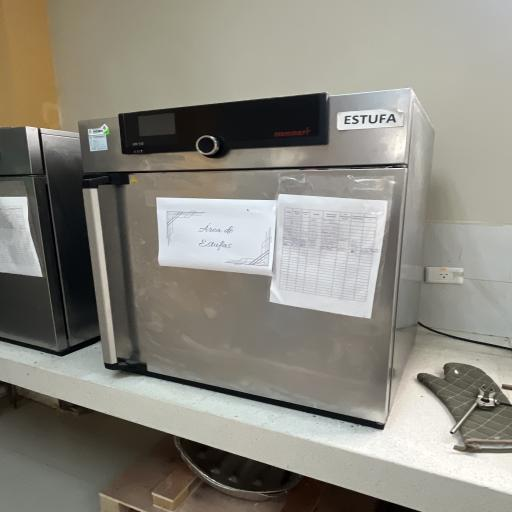Estufa_Memmert: (62, 84, 450, 440)
